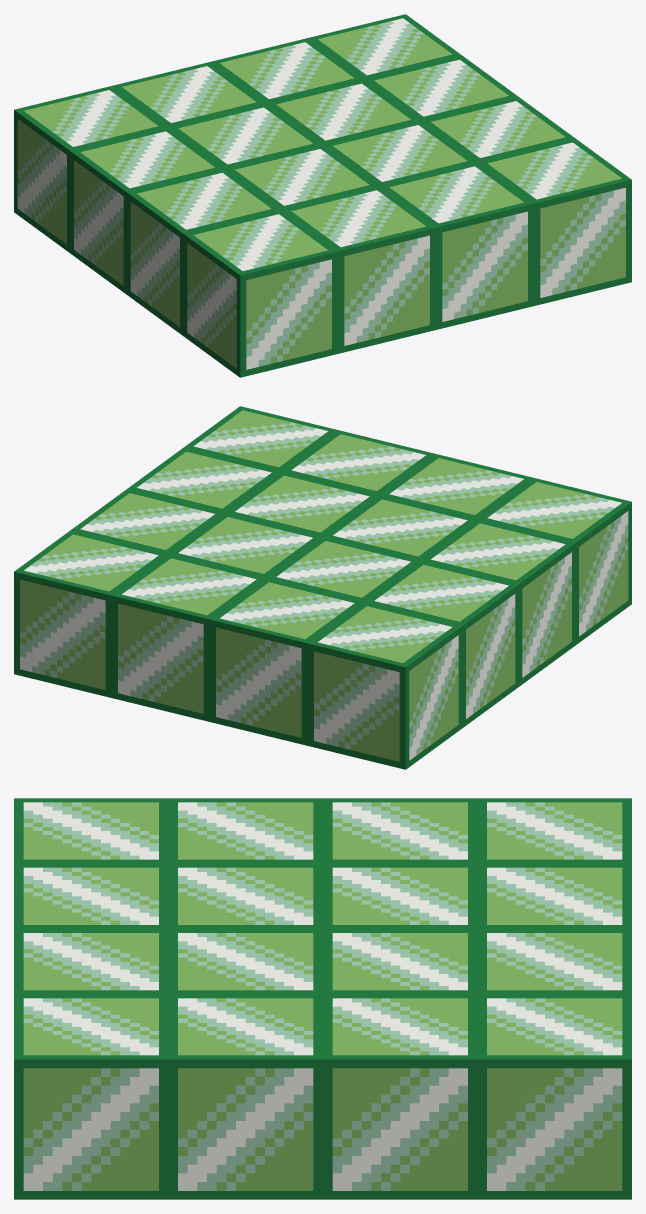
Rendered from alter_tiles_green4x4.fbx.
3 renders of one model, top to bottom at view 1: azimuth 30°, elevation 25°; view 2: azimuth 150°, elevation 25°; view 3: azimuth 270°, elevation 25°, orthographic. The views are drawn at different scales.
Parts seen in each view (by area): view 1: alter_tiles_green4x4; view 2: alter_tiles_green4x4; view 3: alter_tiles_green4x4.
Part boxes in pixels (x1,y1,x2,y2): alter_tiles_green4x4: (14, 14, 631, 377); alter_tiles_green4x4: (14, 406, 631, 769); alter_tiles_green4x4: (14, 798, 631, 1199).
Bounding box in the file's own units: 6.4 × 1.6 × 6.4.
Materials: 1 (1 with a texture image).
